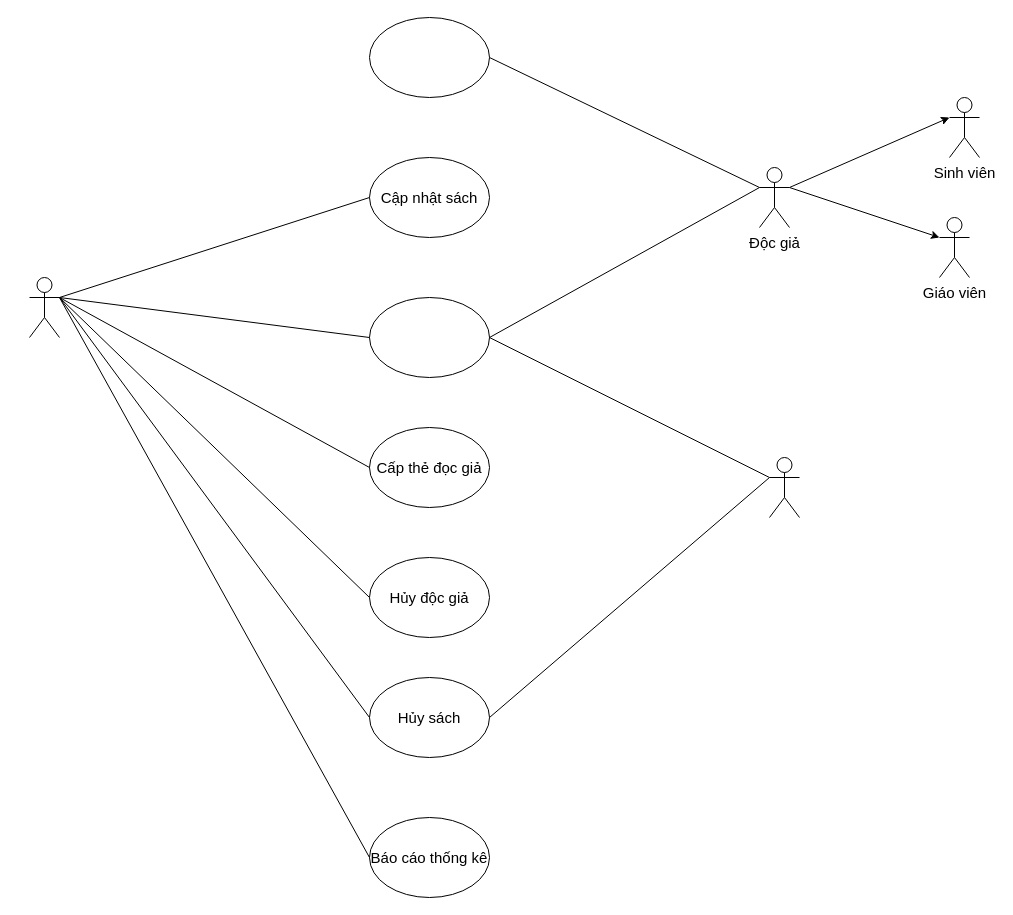
The diagram is 1013 pixels wide and 915 high, and some of its shapes have lost their labels. Here are the shapes that lost their labels. From the top down, the centre of each, then its label:
At [429,57]: "Mượn trả sách".
At [44,307]: "Thử thư".
At [429,337]: "Đăng ký chờ mượn".
At [784,487]: "Bộ phận kho".
